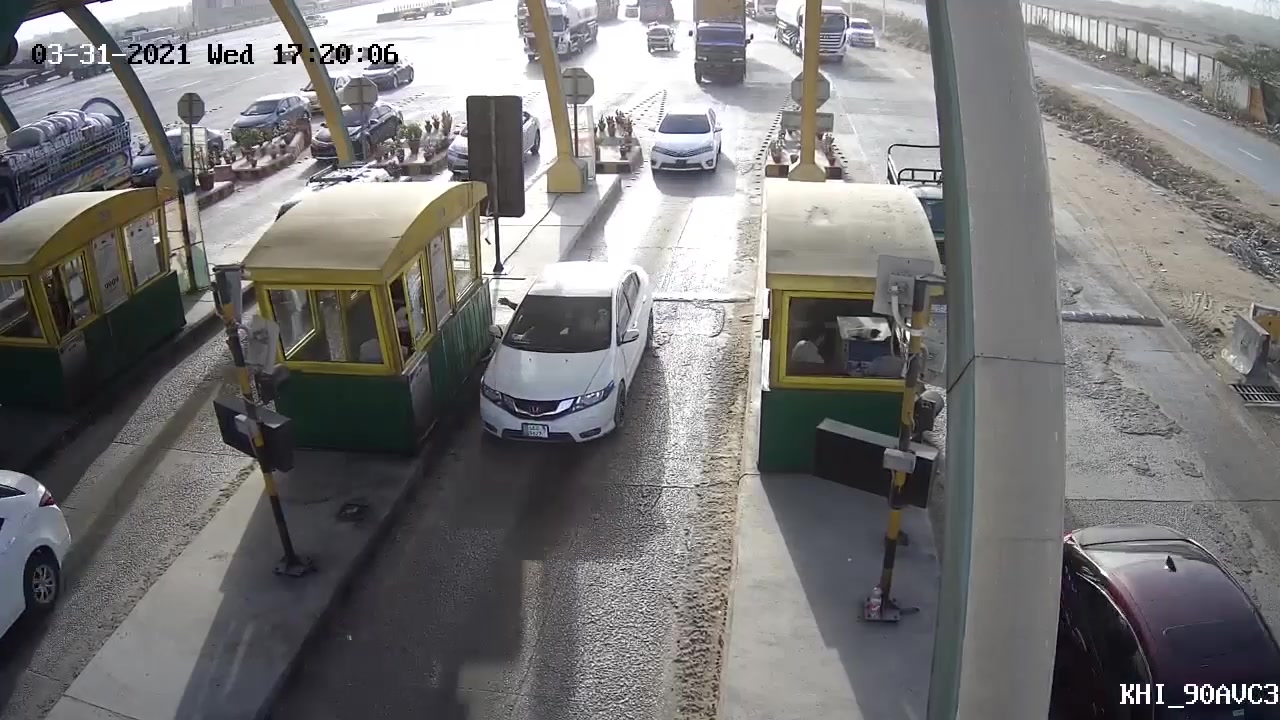F1: (463, 257, 657, 457)
